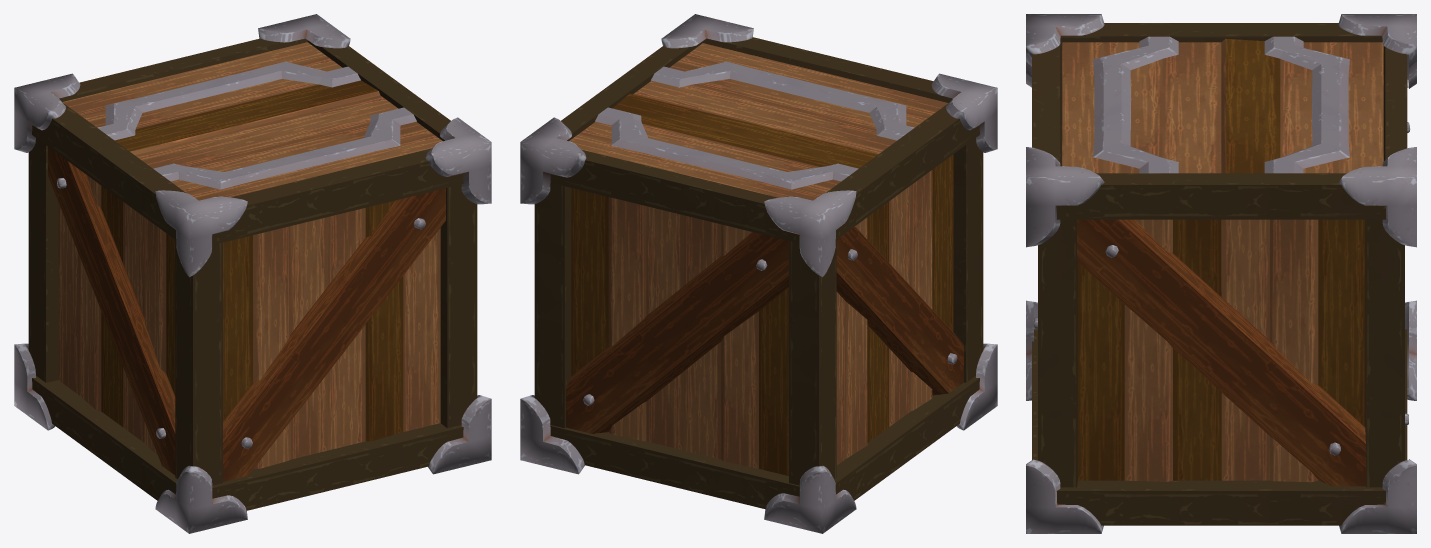
Rendered from crate_metal.gltf.
3 views of the same model, side by side, from view 1: azimuth 30°, elevation 25°; view 2: azimuth 150°, elevation 25°; view 3: azimuth 270°, elevation 25° (orthographic). The views are drawn at different scales.
Parts seen in each view (by area): view 1: Crate_Metal; view 2: Crate_Metal; view 3: Crate_Metal.
Part boxes in pixels (x1,y1,x2,y2): Crate_Metal: (14, 14, 491, 533); Crate_Metal: (520, 14, 997, 533); Crate_Metal: (1026, 14, 1416, 533).
Bounding box in the file's own units: 0.8639 × 0.8679 × 0.8659.
Materials: 2 (2 with a texture image).
